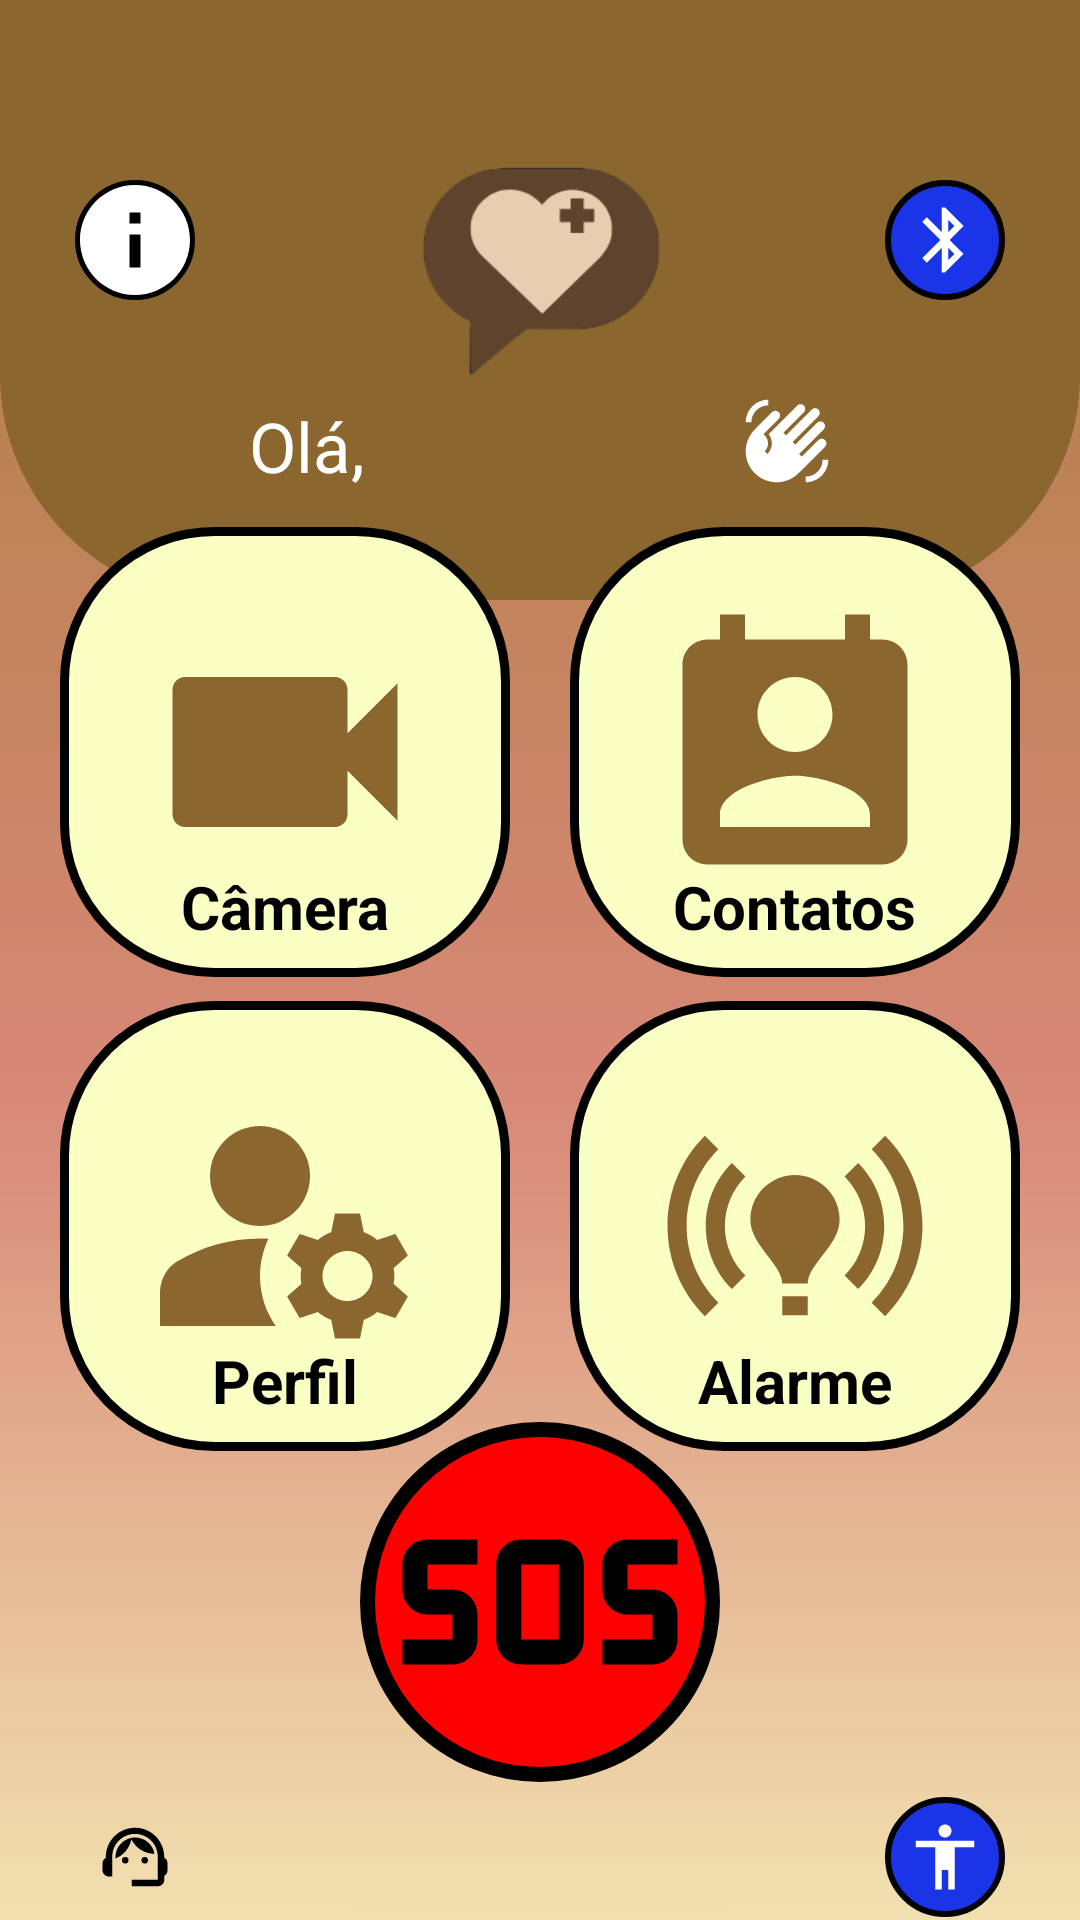

Screen size 1080x1920. Icon name, then its box in pixels as (x1, y1, x2, y2):
accessibility: (885, 1797, 1005, 1917)
information: (75, 180, 195, 300)
support: (102, 1827, 168, 1887)
